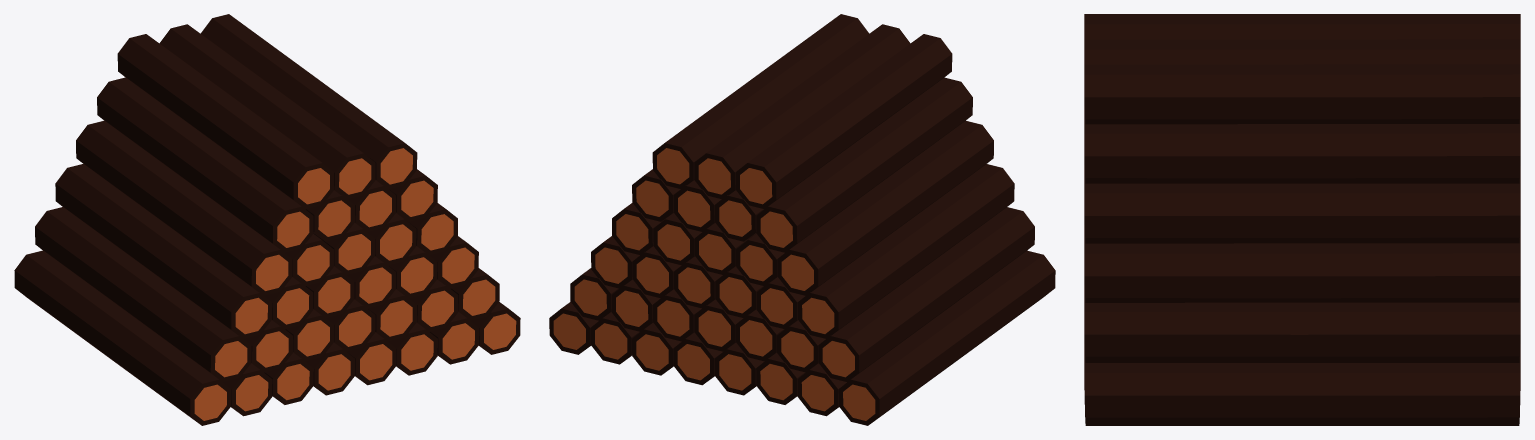
Rendered from tas_de_bois.obj.
The picture shows the model from 3 angles, left to right: view 1: azimuth 30°, elevation 25°; view 2: azimuth 150°, elevation 25°; view 3: azimuth 270°, elevation 25°; orthographic projection. The views are drawn at different scales.
Visible parts, largest first — view 1: Poutre.031_Cylinder.031, Poutre.056_Cylinder.057, Poutre.053_Cylinder.054, Poutre.049_Cylinder.050, Poutre.039_Cylinder.039, Poutre.044_Cylinder.045, Poutre.054_Cylinder.055, Poutre.055_Cylinder.056, Poutre.047_Cylinder.048, Poutre.024_Cylinder.024, Poutre.026_Cylinder.026, Poutre.028_Cylinder.028 (+21 smaller); view 2: Poutre.031_Cylinder.031, Poutre.056_Cylinder.057, Poutre.053_Cylinder.054, Poutre.049_Cylinder.050, Poutre.039_Cylinder.039, Poutre.044_Cylinder.045, Poutre.054_Cylinder.055, Poutre.055_Cylinder.056, Poutre.024_Cylinder.024, Poutre.026_Cylinder.026, Poutre.030_Cylinder.030, Poutre.047_Cylinder.048 (+21 smaller); view 3: Poutre.024_Cylinder.024, Poutre.045_Cylinder.046, Poutre.033_Cylinder.033, Poutre.054_Cylinder.055, Poutre.050_Cylinder.051, Poutre.032_Cylinder.040, Poutre.055_Cylinder.056, Poutre.056_Cylinder.057.
Part boxes in pixels (<box>): Poutre.031_Cylinder.031: <box>14,250,231,425</box>; Poutre.056_Cylinder.057: <box>117,34,334,209</box>; Poutre.053_Cylinder.054: <box>97,77,313,252</box>; Poutre.049_Cylinder.050: <box>76,120,292,295</box>; Poutre.039_Cylinder.039: <box>35,207,251,381</box>; Poutre.044_Cylinder.045: <box>55,164,272,338</box>; Poutre.054_Cylinder.055: <box>200,14,417,189</box>; Poutre.055_Cylinder.056: <box>159,24,375,199</box>; Poutre.047_Cylinder.048: <box>313,223,375,274</box>; Poutre.024_Cylinder.024: <box>471,302,520,354</box>; Poutre.026_Cylinder.026: <box>388,322,437,375</box>; Poutre.028_Cylinder.028: <box>305,342,354,395</box>; Poutre.031_Cylinder.031: <box>838,250,1055,425</box>; Poutre.056_Cylinder.057: <box>735,34,952,209</box>; Poutre.053_Cylinder.054: <box>756,77,972,252</box>; Poutre.049_Cylinder.050: <box>777,120,993,295</box>; Poutre.039_Cylinder.039: <box>818,207,1034,381</box>; Poutre.044_Cylinder.045: <box>797,164,1014,338</box>; Poutre.054_Cylinder.055: <box>652,14,869,188</box>; Poutre.055_Cylinder.056: <box>694,24,910,199</box>; Poutre.024_Cylinder.024: <box>549,302,598,354</box>; Poutre.026_Cylinder.026: <box>632,322,681,375</box>; Poutre.030_Cylinder.030: <box>797,363,846,416</box>; Poutre.047_Cylinder.048: <box>694,223,756,274</box>; Poutre.024_Cylinder.024: <box>1084,363,1520,425</box>; Poutre.045_Cylinder.046: <box>1084,183,1520,243</box>; Poutre.033_Cylinder.033: <box>1084,302,1520,362</box>; Poutre.054_Cylinder.055: <box>1084,64,1520,124</box>; Poutre.050_Cylinder.051: <box>1084,123,1520,183</box>; Poutre.032_Cylinder.040: <box>1084,243,1520,302</box>; Poutre.055_Cylinder.056: <box>1084,39,1520,64</box>; Poutre.056_Cylinder.057: <box>1084,14,1520,39</box>.
Size of the model in its own units: 1.93 by 1.31 by 1.78.
